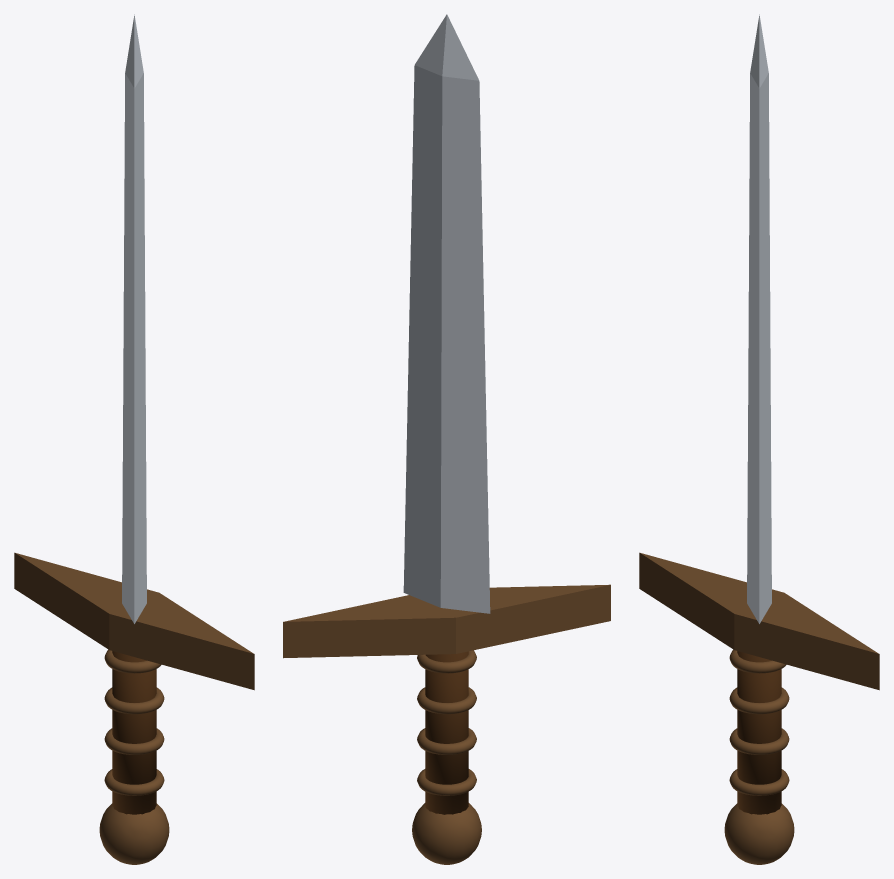
Rendered from sword-1.glb.
3 views of the same model, side by side, from view 1: azimuth 90°, elevation 25°; view 2: azimuth 150°, elevation 25°; view 3: azimuth 270°, elevation 25° (orthographic).
Visible parts, largest first — view 1: Guard, Blade, Grip, Wrap0; view 2: Blade, Guard, Grip, Wrap0; view 3: Guard, Blade, Grip, Wrap0.
Part boxes in pixels (box(x1,y1,x2,y2)): Guard: box(14, 552, 254, 864); Blade: box(122, 14, 146, 623); Grip: box(112, 651, 156, 814); Wrap0: box(104, 649, 164, 795); Blade: box(403, 14, 490, 613); Guard: box(283, 584, 610, 864); Grip: box(425, 651, 468, 814); Wrap0: box(417, 650, 476, 795); Guard: box(639, 552, 879, 864); Blade: box(747, 14, 771, 623); Grip: box(737, 651, 781, 814); Wrap0: box(729, 649, 789, 795).
Size of the model in its own units: 0.24 by 0.935 by 0.24.
